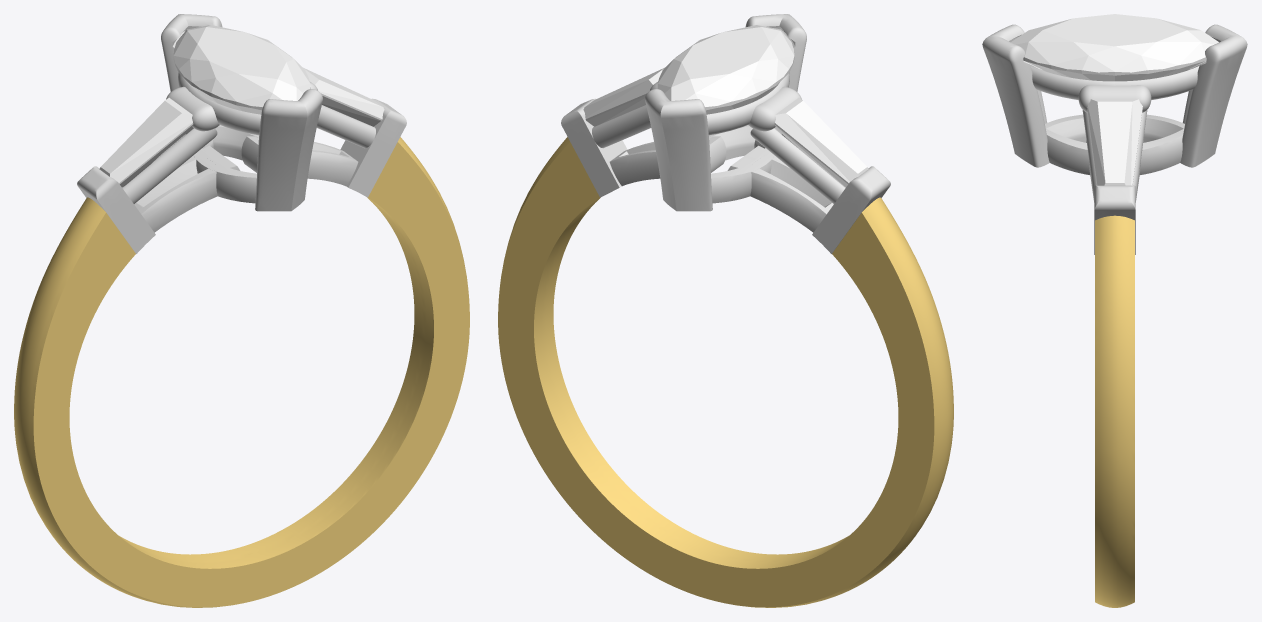
File: KimHirsh2_webgi.glb
3 renders of one model, left to right at view 1: azimuth 30°, elevation 25°; view 2: azimuth 150°, elevation 25°; view 3: azimuth 270°, elevation 25°, orthographic.
Visible parts, largest first — view 1: kim_pt_for_3d_model008, kim_diamonds_for_3d_model002, kim_pt_for_3d_model001, kim_pt_for_3d_model005, kim_diamonds_for_3d_model001, kim_pt_for_3d_model007, kim_pt_for_3d_model006, kim_pt_for_3d_model003, kim_pt_for_3d_model009, kim_pt_for_3d_model004, kim_diamonds_for_3d_model, kim_pt_for_3d_model002 (+3 smaller); view 2: kim_pt_for_3d_model008, kim_diamonds_for_3d_model002, kim_pt_for_3d_model002, kim_pt_for_3d_model005, kim_diamonds_for_3d_model001, kim_pt_for_3d_model007, kim_pt_for_3d_model006, kim_pt_for_3d_model003, kim_pt_for_3d_model009, kim_pt_for_3d_model004, kim_diamonds_for_3d_model, kim_pt_for_3d_model001 (+3 smaller); view 3: kim_pt_for_3d_model008, kim_diamonds_for_3d_model002, kim_pt_for_3d_model001, kim_pt_for_3d_model002, kim_pt_for_3d_model003, kim_diamonds_for_3d_model, kim_pt_for_3d_model, kim_pt_for_3d_model006, kim_pt_for_3d_model010, kim_pt_for_3d_model011.
Boxes of the visible parts, <box> form: kim_pt_for_3d_model008: <box>14,137,469,607</box>; kim_diamonds_for_3d_model002: <box>173,25,310,114</box>; kim_pt_for_3d_model001: <box>255,89,322,211</box>; kim_pt_for_3d_model005: <box>134,145,240,232</box>; kim_diamonds_for_3d_model001: <box>99,97,193,187</box>; kim_pt_for_3d_model007: <box>77,166,155,253</box>; kim_pt_for_3d_model006: <box>340,98,406,197</box>; kim_pt_for_3d_model003: <box>193,125,258,203</box>; kim_pt_for_3d_model009: <box>122,128,217,203</box>; kim_pt_for_3d_model004: <box>241,136,358,186</box>; kim_diamonds_for_3d_model: <box>303,67,384,126</box>; kim_pt_for_3d_model002: <box>161,14,222,91</box>; kim_pt_for_3d_model008: <box>498,137,953,607</box>; kim_diamonds_for_3d_model002: <box>657,25,794,114</box>; kim_pt_for_3d_model002: <box>645,89,712,211</box>; kim_pt_for_3d_model005: <box>727,145,833,232</box>; kim_diamonds_for_3d_model001: <box>774,97,868,187</box>; kim_pt_for_3d_model007: <box>812,166,890,253</box>; kim_pt_for_3d_model006: <box>561,98,627,197</box>; kim_pt_for_3d_model003: <box>709,125,774,203</box>; kim_pt_for_3d_model009: <box>750,128,845,203</box>; kim_pt_for_3d_model004: <box>609,136,726,186</box>; kim_diamonds_for_3d_model: <box>583,67,664,126</box>; kim_pt_for_3d_model001: <box>745,14,806,91</box>; kim_pt_for_3d_model008: <box>1095,215,1134,607</box>; kim_diamonds_for_3d_model002: <box>1011,14,1218,81</box>; kim_pt_for_3d_model001: <box>982,24,1049,167</box>; kim_pt_for_3d_model002: <box>1180,24,1247,167</box>; kim_pt_for_3d_model003: <box>1045,114,1184,174</box>; kim_diamonds_for_3d_model: <box>1087,99,1142,185</box>; kim_pt_for_3d_model: <box>1023,61,1206,99</box>; kim_pt_for_3d_model006: <box>1094,185,1135,254</box>; kim_pt_for_3d_model010: <box>1078,85,1151,112</box>; kim_pt_for_3d_model011: <box>1082,110,1147,199</box>.
Size of the model in its own units: 2.47 by 2.89 by 1.25.
